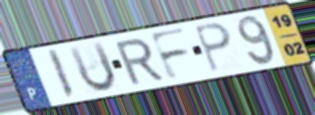9: (235, 15, 278, 67)
F: (147, 26, 193, 83)
I: (45, 47, 78, 101)
P: (192, 21, 234, 74)
R: (113, 36, 166, 87)
U: (66, 39, 119, 94)
